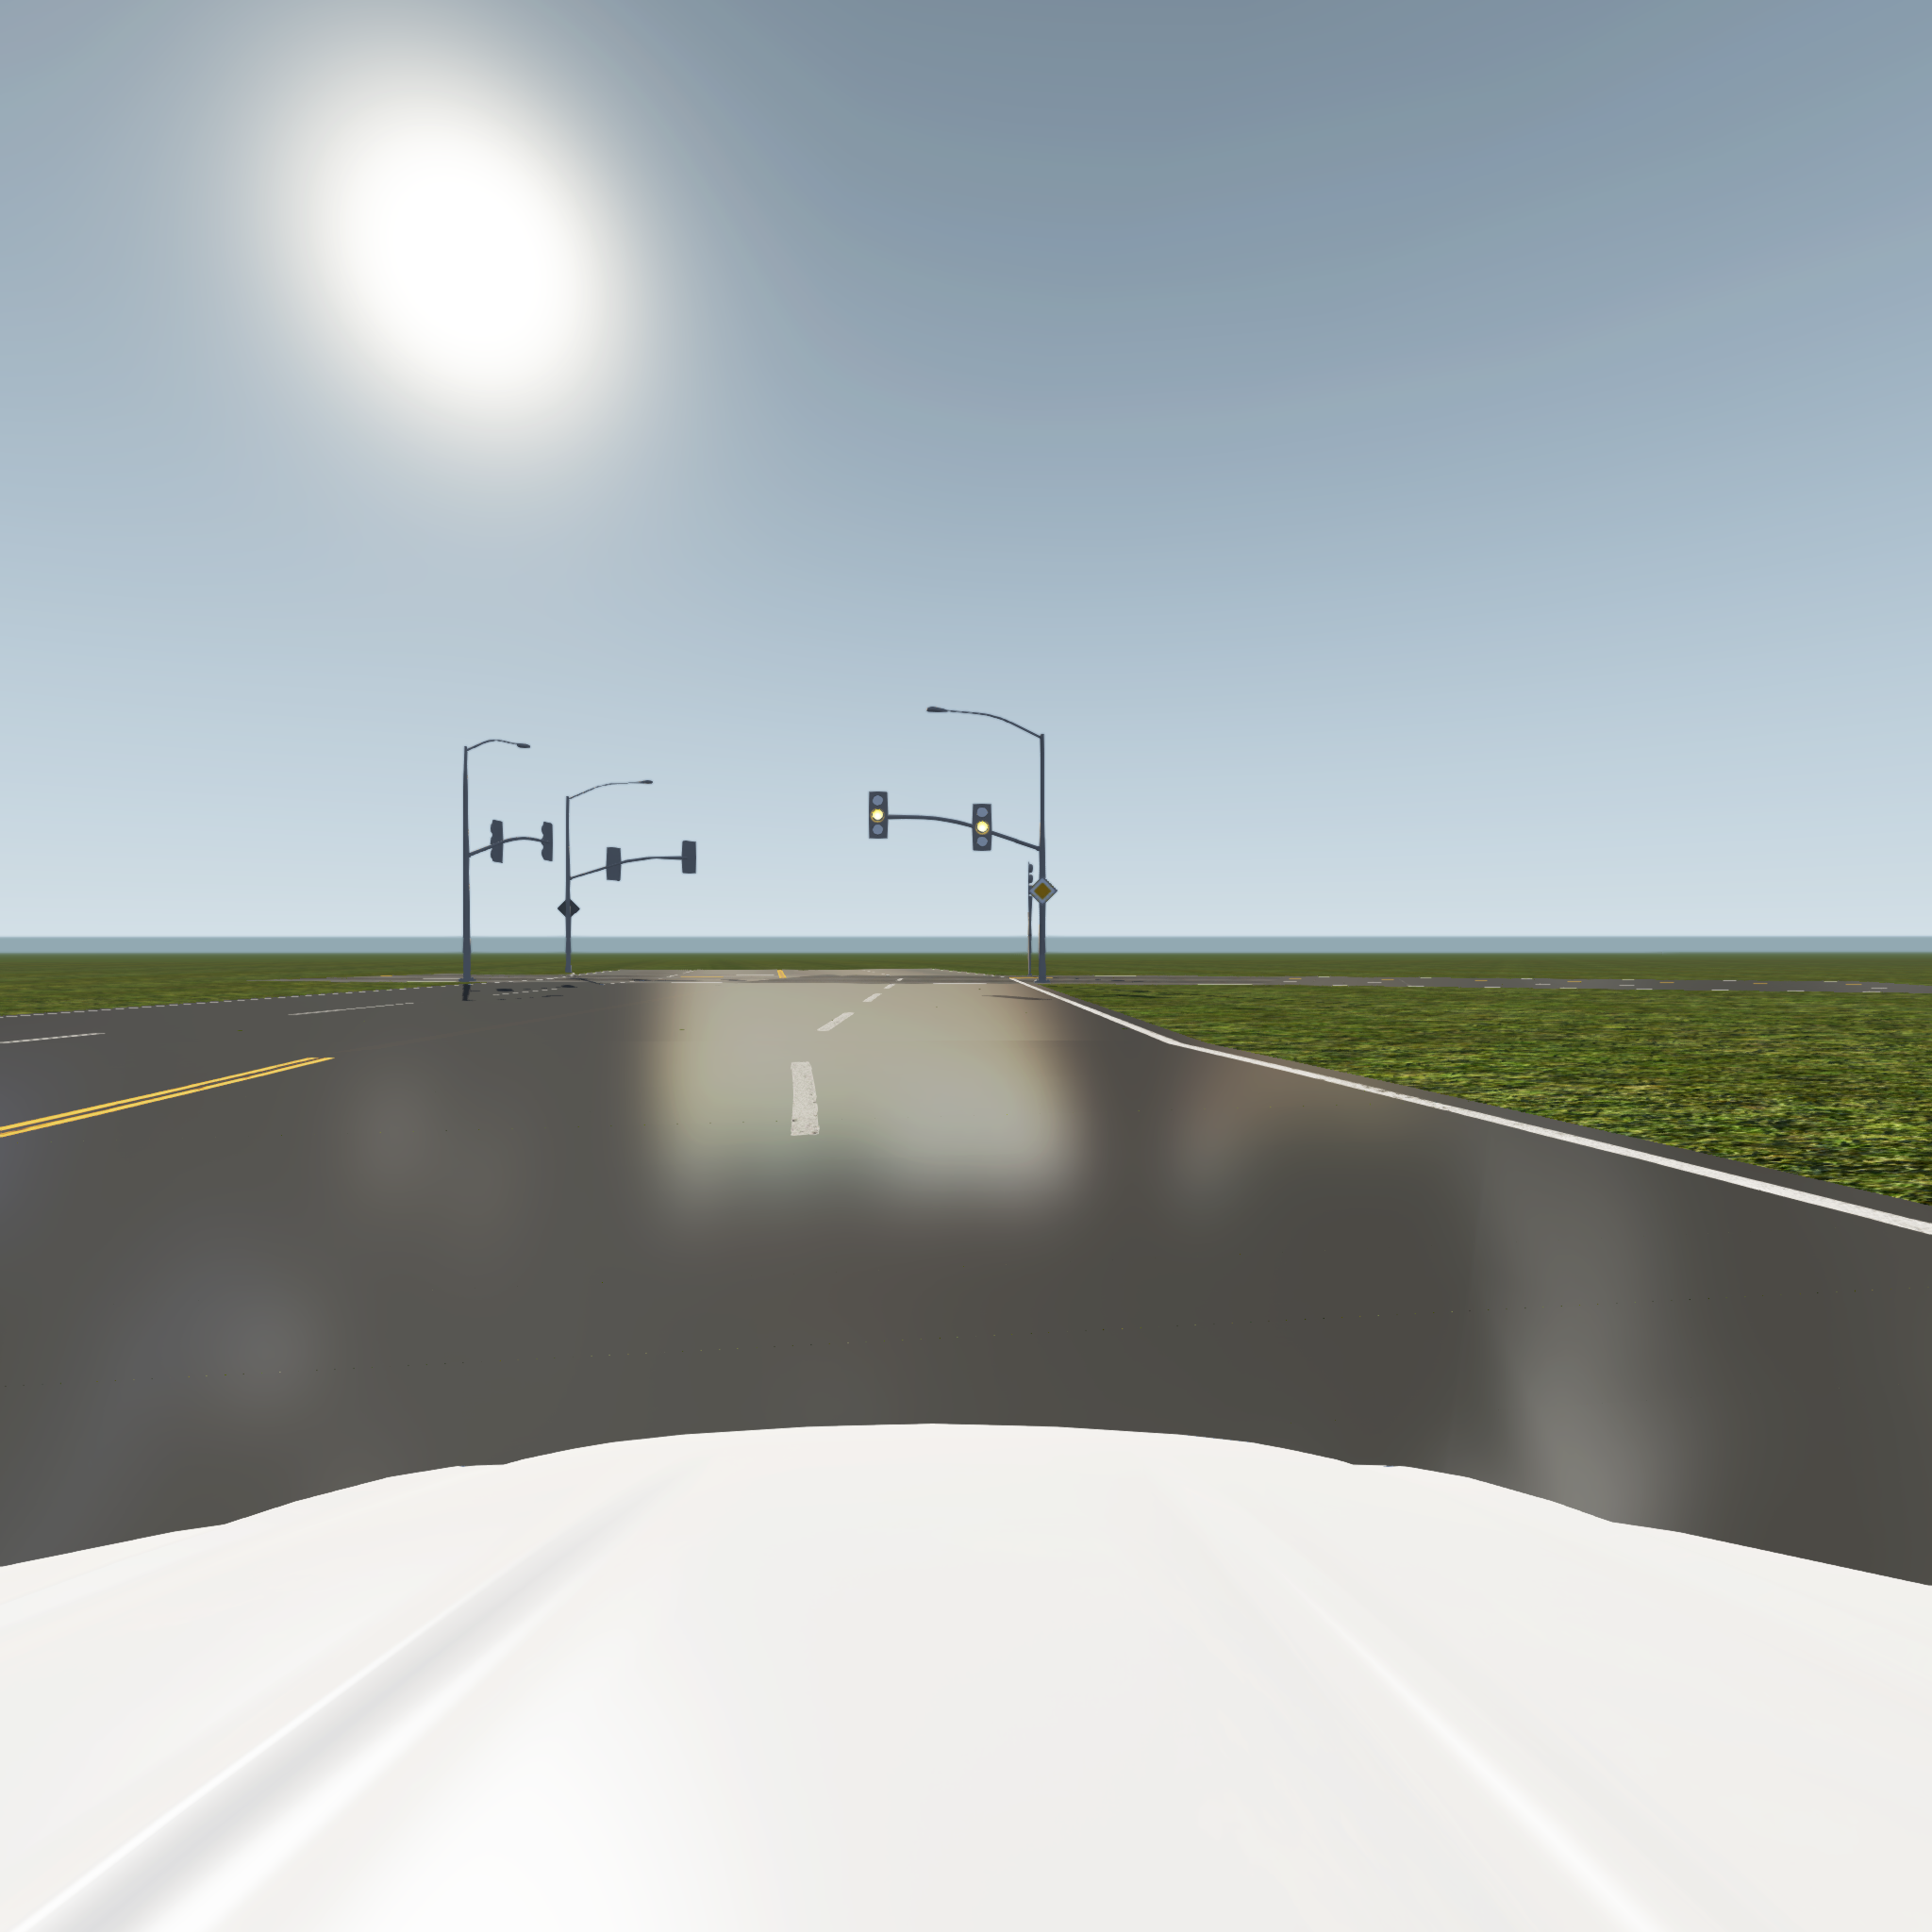yellow: (869, 793, 888, 837), (973, 805, 991, 851)
